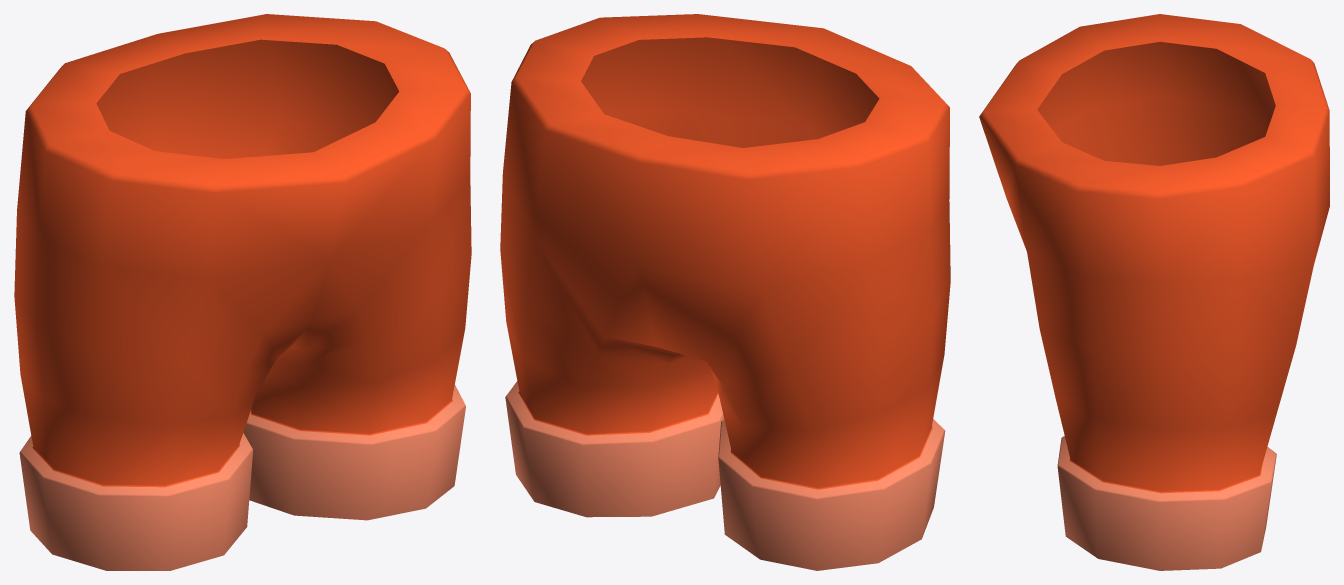
Rendered from Pants_Orange_001.glb.
The picture shows the model from 3 angles, left to right: view 1: azimuth 30°, elevation 25°; view 2: azimuth 150°, elevation 25°; view 3: azimuth 270°, elevation 25°; orthographic projection. The views are drawn at different scales.
Visible parts, largest first — view 1: Pants_Orange_001; view 2: Pants_Orange_001; view 3: Pants_Orange_001.
Part boxes in pixels (left/top/right/bottom): Pants_Orange_001: left=14, top=14, right=471, bottom=570; Pants_Orange_001: left=500, top=14, right=950, bottom=570; Pants_Orange_001: left=979, top=14, right=1329, bottom=570.
Size of the model in its own units: 0.4529 by 0.4315 by 0.3561.
1 material, 1 textured.
